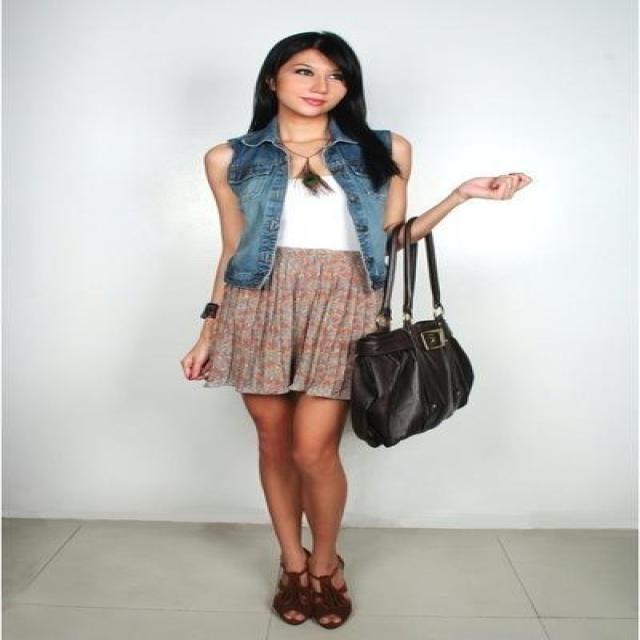bag: (336, 218, 472, 447)
shirt: (222, 117, 396, 300), (277, 158, 358, 252)
shoe: (270, 576, 349, 624)
skirt: (200, 246, 402, 406)
